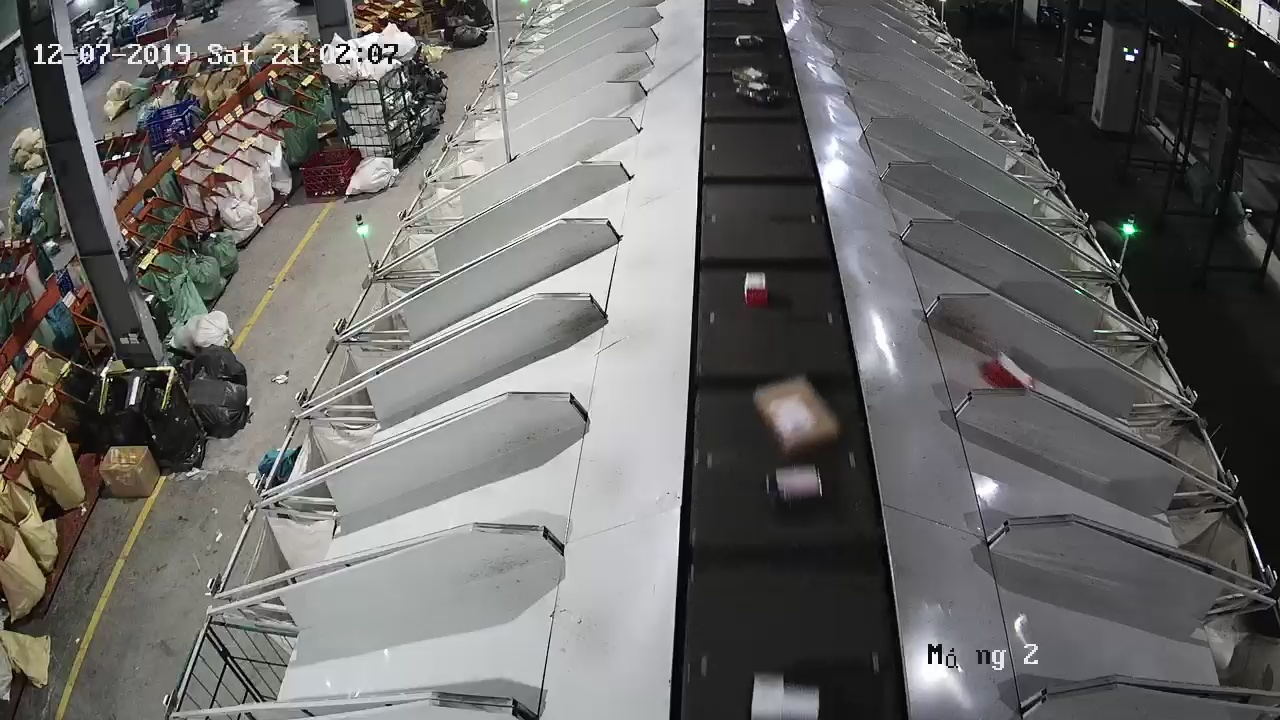parcel: (752, 372, 842, 457)
